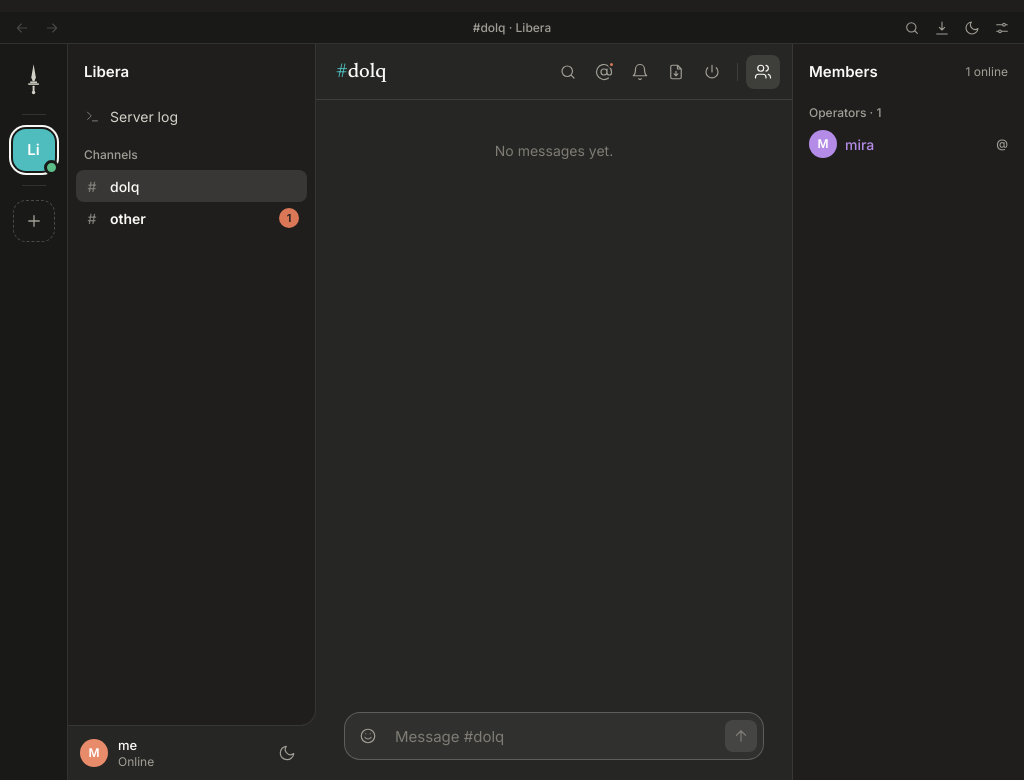
it: App: incoming messages › flags a mention in another channel, alerts and updates the badge
This screenshot has width=1024, height=780.
// the toolbar offers a way to jump there
Step 1. Click the button named "Mentions" → (604, 72), box [587,54,621,88]
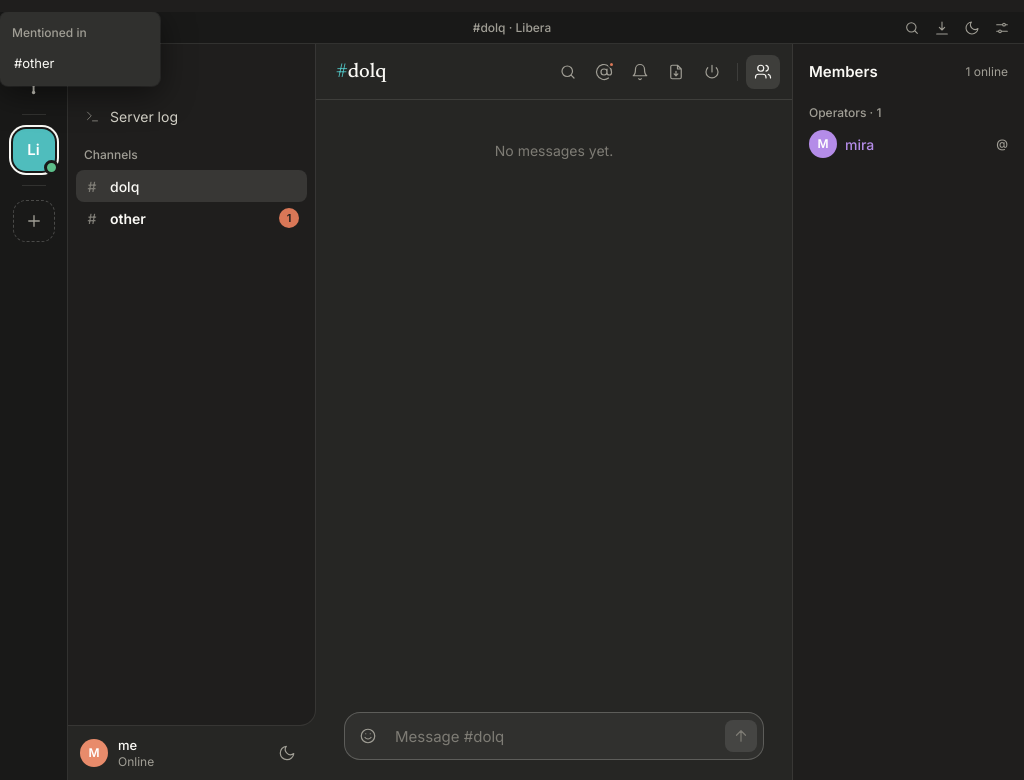
Step 2. Click the button "#other" → (80, 64), box [4,48,156,80]
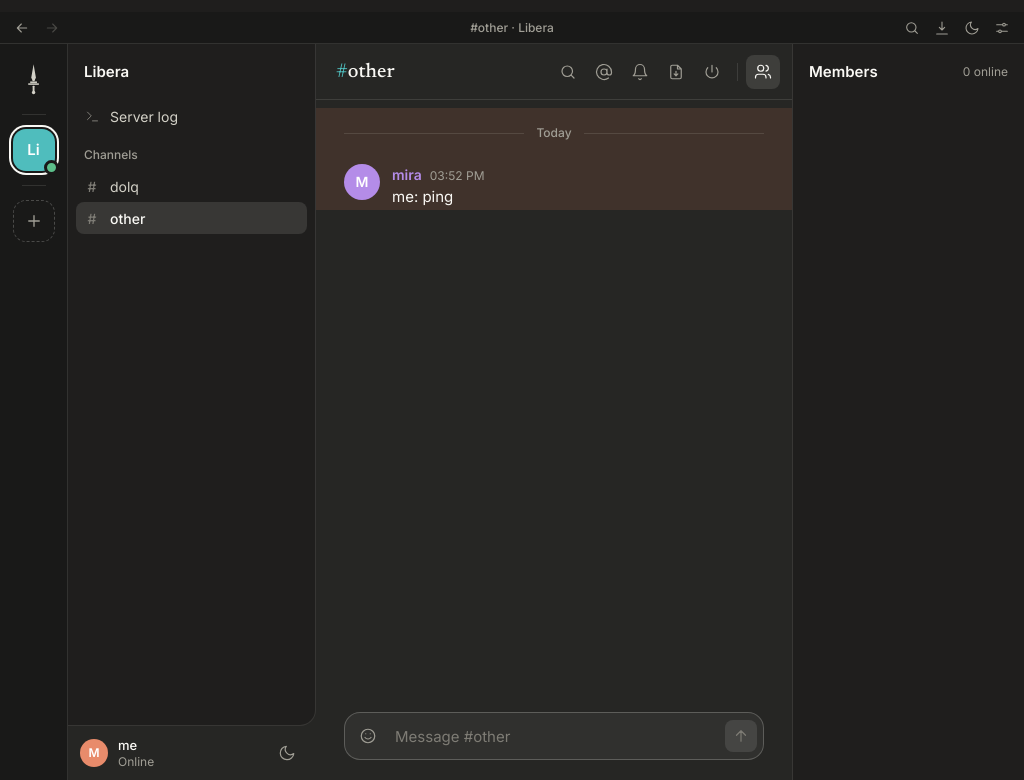
Expected: the heading "#other" is shown, [336,56,395,86]
